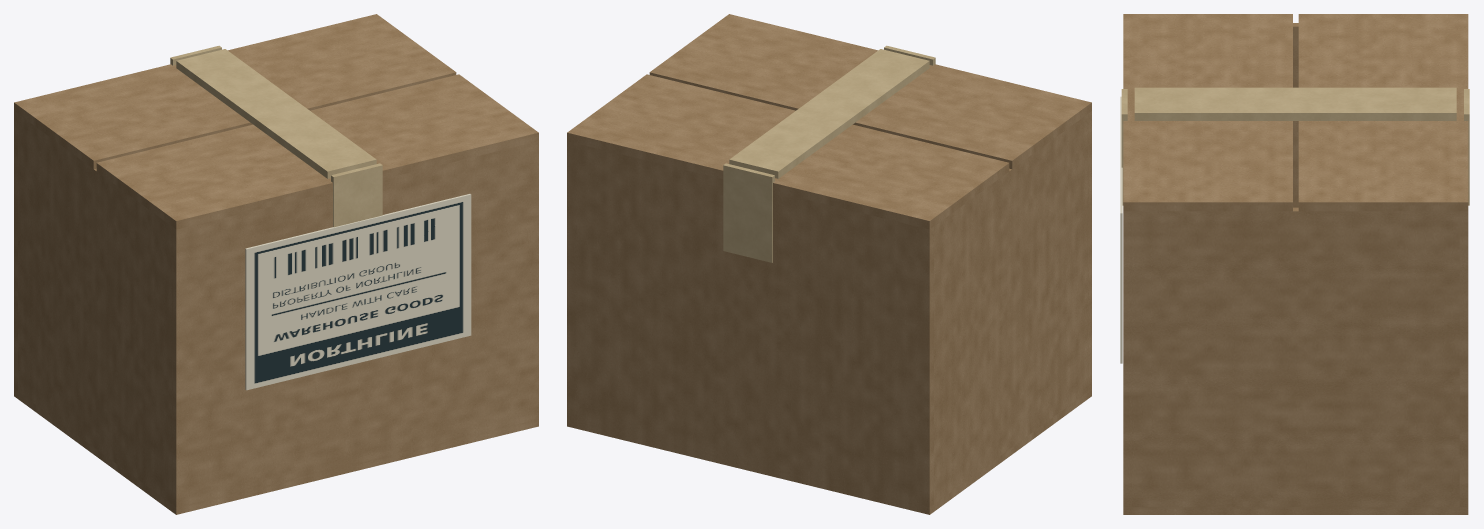
File: MOD_06_Carton_Small_310x240.glb
The picture shows the model from 3 angles, left to right: view 1: azimuth 30°, elevation 25°; view 2: azimuth 150°, elevation 25°; view 3: azimuth 270°, elevation 25°; orthographic projection. The views are drawn at different scales.
Visible parts, largest first — view 1: Render_Carton_Small_310x240_CorrugatedFront, Render_Carton_Small_310x240_CorrugatedLeft, Render_Carton_Small_310x240_WarehouseShippingLabel, Render_Carton_Small_310x240_TopFlapFront, Render_Carton_Small_310x240_TopFlapBack, Render_Carton_Small_310x240_TapeTopCenter, Render_Carton_Small_310x240_CartonBottom, Render_Carton_Small_310x240_TapeFrontTurnover, Render_Carton_Small_310x240_CorrugatedRear; view 2: Render_Carton_Small_310x240_CorrugatedRear, Render_Carton_Small_310x240_CorrugatedLeft, Render_Carton_Small_310x240_TopFlapBack, Render_Carton_Small_310x240_TopFlapFront, Render_Carton_Small_310x240_TapeTopCenter, Render_Carton_Small_310x240_TapeRearTurnover, Render_Carton_Small_310x240_CartonBottom, Render_Carton_Small_310x240_CorrugatedFront; view 3: Render_Carton_Small_310x240_CorrugatedRight, Render_Carton_Small_310x240_TopFlapBack, Render_Carton_Small_310x240_TopFlapFront, Render_Carton_Small_310x240_TapeTopCenter, Render_Carton_Small_310x240_CorrugatedRear, Render_Carton_Small_310x240_CartonBottom, Render_Carton_Small_310x240_CorrugatedFront, Render_Carton_Small_310x240_CorrugatedLeft, Render_Carton_Small_310x240_WarehouseShippingLabel, Render_Carton_Small_310x240_TapeFrontTurnover.
Part boxes in pixels (x1,y1,x2,y2): Render_Carton_Small_310x240_CorrugatedFront: (172, 141, 538, 507); Render_Carton_Small_310x240_CorrugatedLeft: (18, 114, 171, 504); Render_Carton_Small_310x240_WarehouseShippingLabel: (245, 194, 471, 390); Render_Carton_Small_310x240_TopFlapFront: (96, 74, 538, 229); Render_Carton_Small_310x240_TopFlapBack: (14, 14, 456, 169); Render_Carton_Small_310x240_TapeTopCenter: (176, 49, 376, 178); Render_Carton_Small_310x240_CartonBottom: (14, 389, 538, 514); Render_Carton_Small_310x240_TapeFrontTurnover: (331, 163, 382, 227); Render_Carton_Small_310x240_CorrugatedRear: (14, 111, 17, 391); Render_Carton_Small_310x240_CorrugatedRear: (567, 141, 933, 507); Render_Carton_Small_310x240_CorrugatedLeft: (934, 114, 1087, 504); Render_Carton_Small_310x240_TopFlapBack: (567, 74, 1009, 229); Render_Carton_Small_310x240_TopFlapFront: (649, 14, 1091, 169); Render_Carton_Small_310x240_TapeTopCenter: (729, 49, 929, 178); Render_Carton_Small_310x240_TapeRearTurnover: (723, 163, 774, 262); Render_Carton_Small_310x240_CartonBottom: (567, 389, 1091, 514); Render_Carton_Small_310x240_CorrugatedFront: (1088, 111, 1091, 391); Render_Carton_Small_310x240_CorrugatedRight: (1132, 207, 1459, 507); Render_Carton_Small_310x240_TopFlapBack: (1298, 14, 1468, 211); Render_Carton_Small_310x240_TopFlapFront: (1123, 14, 1292, 211); Render_Carton_Small_310x240_TapeTopCenter: (1134, 87, 1456, 120); Render_Carton_Small_310x240_CorrugatedRear: (1459, 211, 1468, 507); Render_Carton_Small_310x240_CartonBottom: (1123, 507, 1468, 514); Render_Carton_Small_310x240_CorrugatedFront: (1123, 211, 1131, 507); Render_Carton_Small_310x240_CorrugatedLeft: (1293, 23, 1298, 207); Render_Carton_Small_310x240_WarehouseShippingLabel: (1120, 96, 1122, 363); Render_Carton_Small_310x240_TapeFrontTurnover: (1121, 89, 1127, 205).
Bounding box in the file's own units: 0.31 × 0.246 × 0.243.
Materials: 3 (3 with a texture image).
